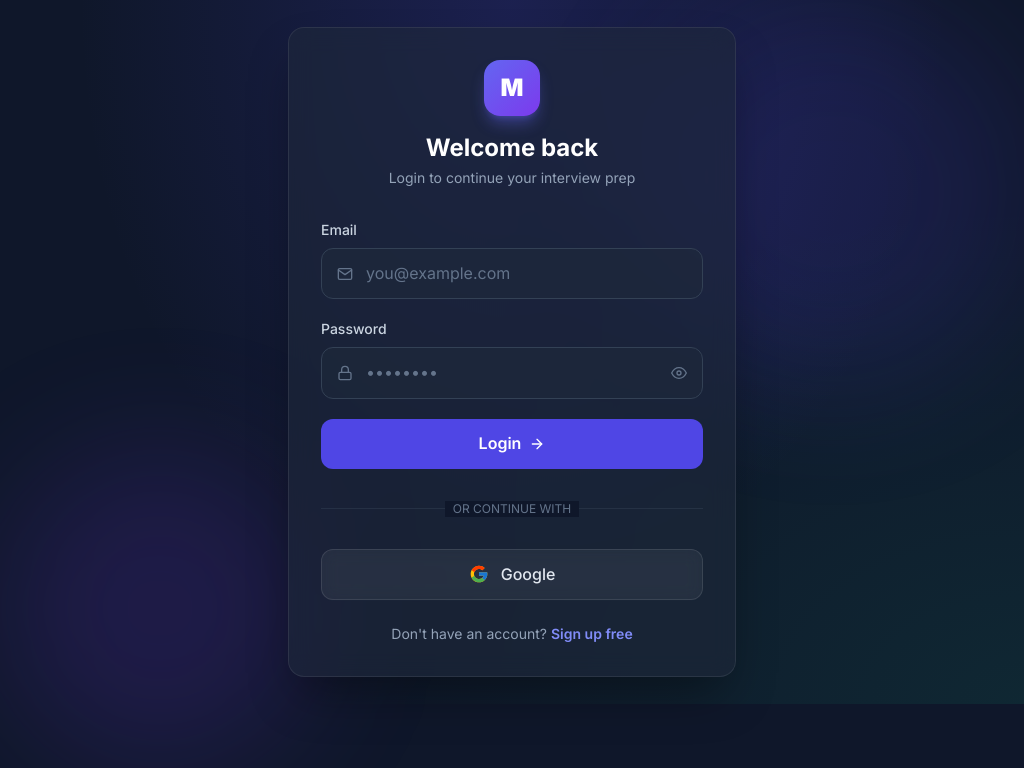
Test: Login Page › shows validation errors when submitted empty
Click the button "Login".
click(512, 444)  # box x1=321 y1=419 x2=703 y2=469
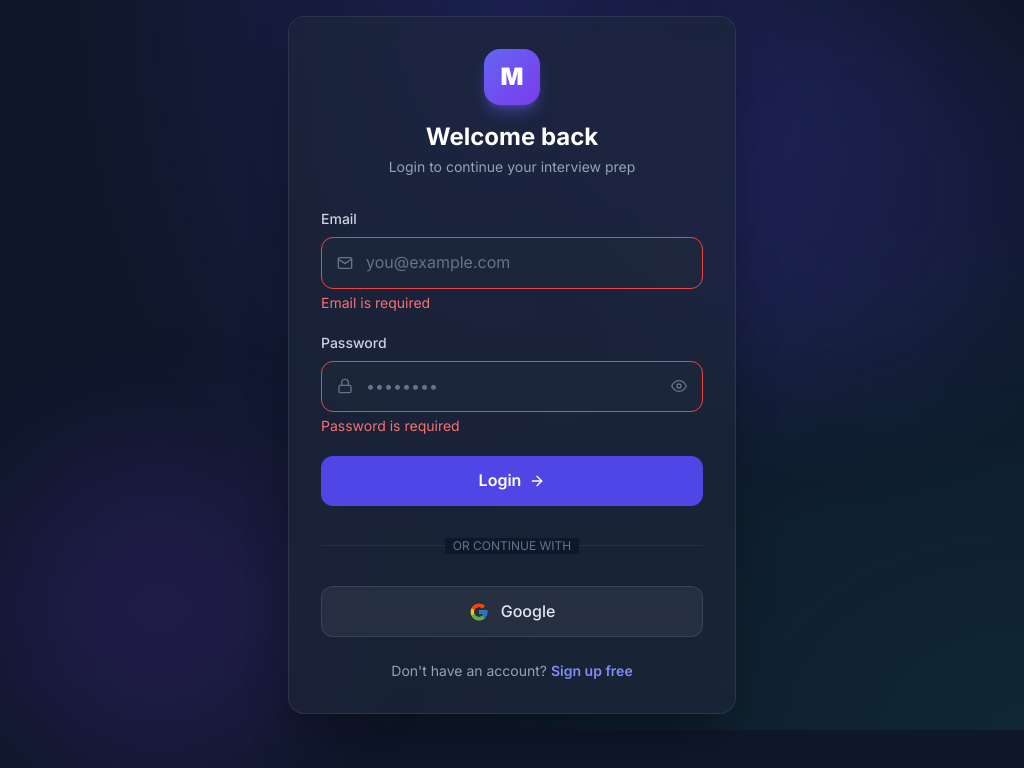
Expected: the text "Email is required" is shown, x1=321 y1=294 x2=430 y2=311
